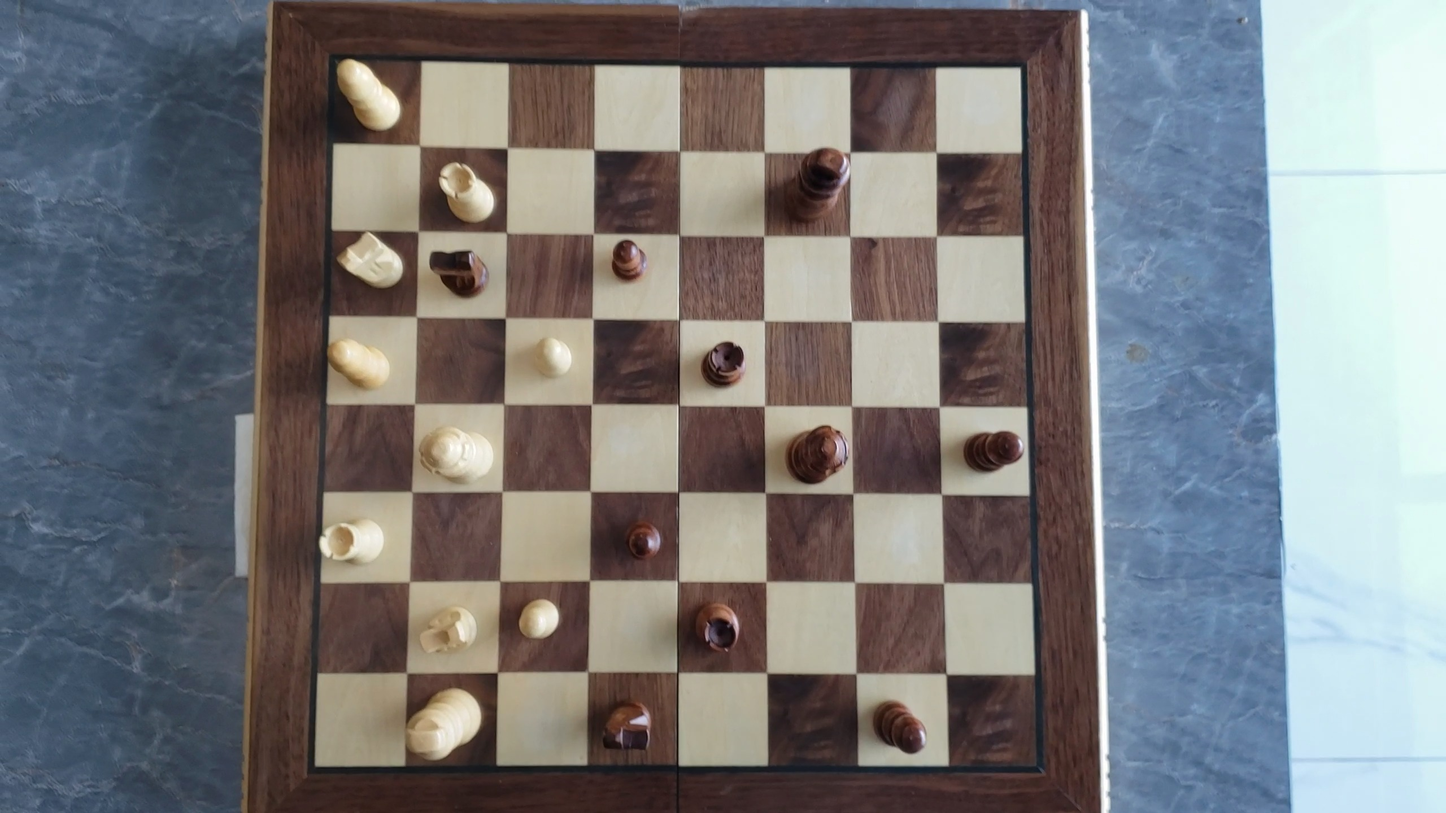black-bishop: (870, 696, 929, 754), (962, 426, 1024, 472)
black-king: (787, 142, 853, 224)
black-knight: (597, 693, 657, 760), (428, 246, 490, 299)
black-pawn: (608, 235, 650, 283), (624, 517, 665, 562)
black-queen: (772, 420, 858, 498)
black-rook: (691, 331, 754, 391), (692, 595, 745, 659)
white-bishop: (337, 57, 405, 133), (320, 333, 402, 394)
white-king: (406, 683, 489, 762)
white-knight: (336, 228, 405, 291), (413, 600, 482, 654)
white-pawn: (515, 595, 564, 642), (530, 333, 577, 381)
white-queen: (411, 414, 497, 500)
white-rook: (310, 506, 388, 573), (434, 158, 499, 227)
